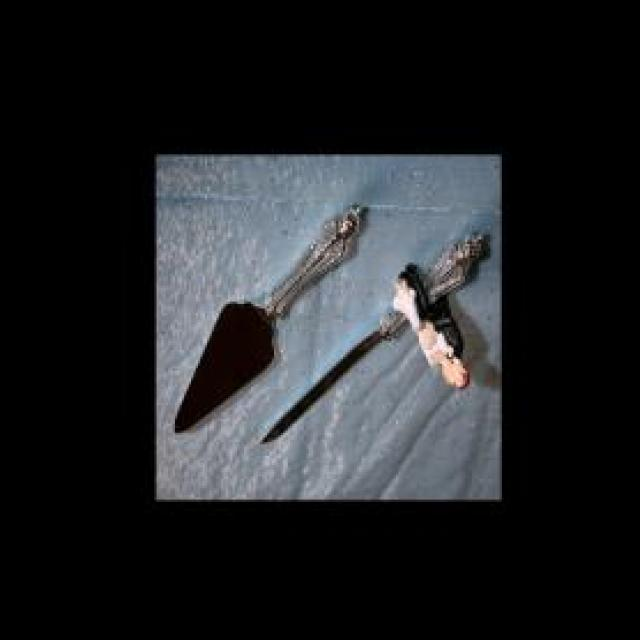knife: (252, 232, 484, 454)
